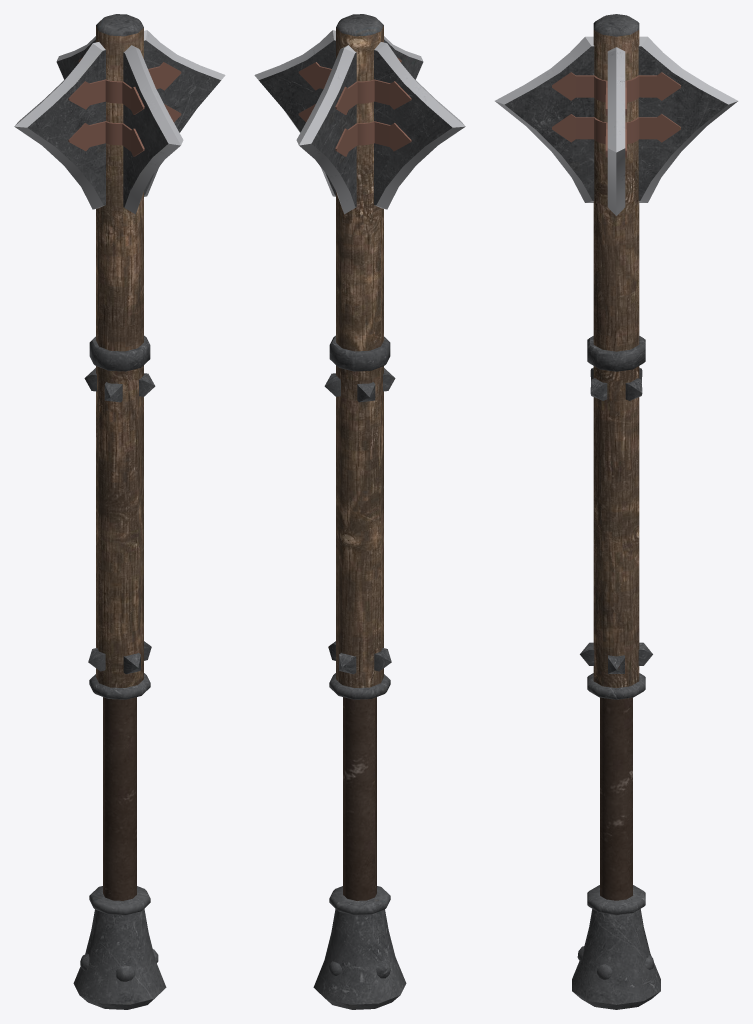
Rendered from w_mace.glb.
3 views of the same model, side by side, from view 1: azimuth 30°, elevation 25°; view 2: azimuth 150°, elevation 25°; view 3: azimuth 270°, elevation 25° (orthographic).
Visible parts, largest first — view 1: mace_low__0; view 2: mace_low__0; view 3: mace_low__0.
Part boxes in pixels (x1,y1,x2,y2): mace_low__0: (14,14,225,1009); mace_low__0: (254,14,465,1009); mace_low__0: (495,14,737,1009).
Size of the model in its own units: 116 by 509 by 116.
Materials: 1 (1 with a texture image).
